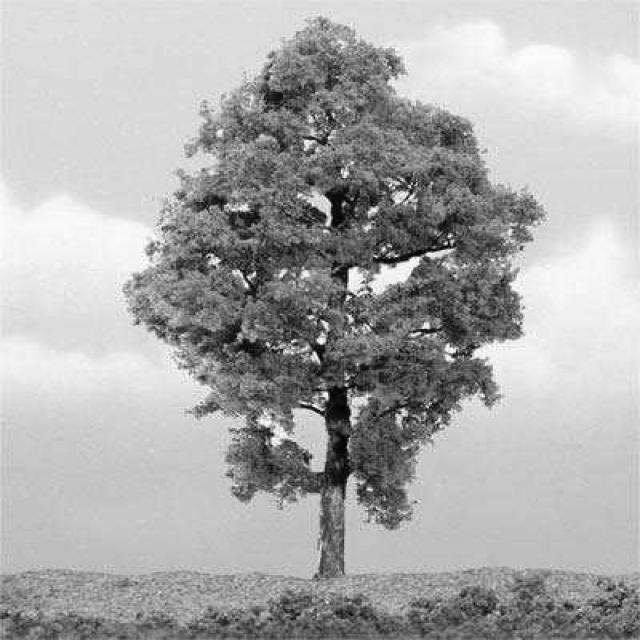Tree: (124, 17, 544, 577)
